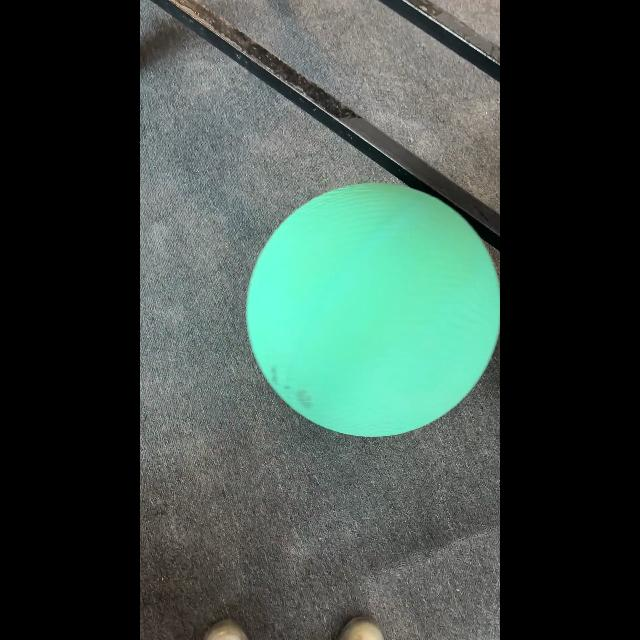ALGAE: (245, 182, 499, 438)
